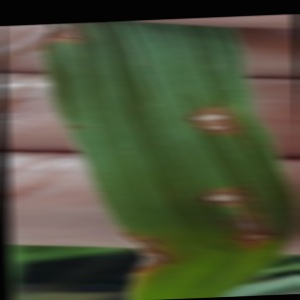Brown_Spot: (120, 230, 170, 284), (185, 174, 256, 212), (58, 104, 100, 147), (182, 96, 244, 125), (192, 119, 244, 142), (235, 230, 271, 256), (239, 207, 271, 236), (37, 25, 77, 48)
